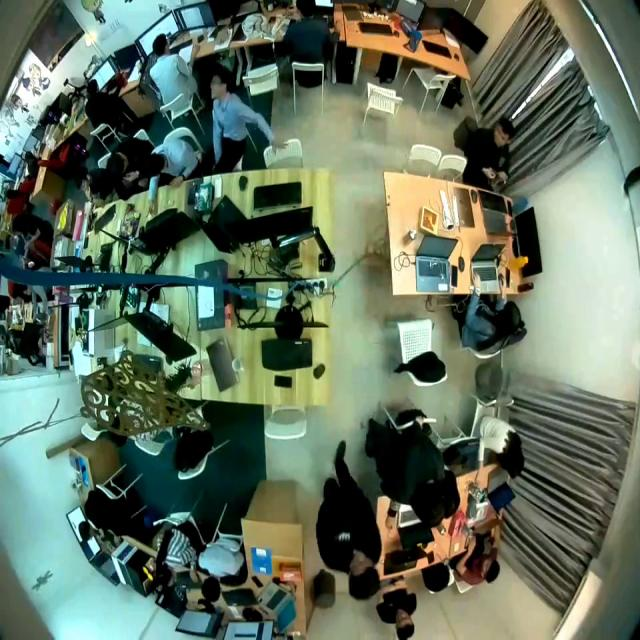employee_tag: (338, 531, 350, 541)
